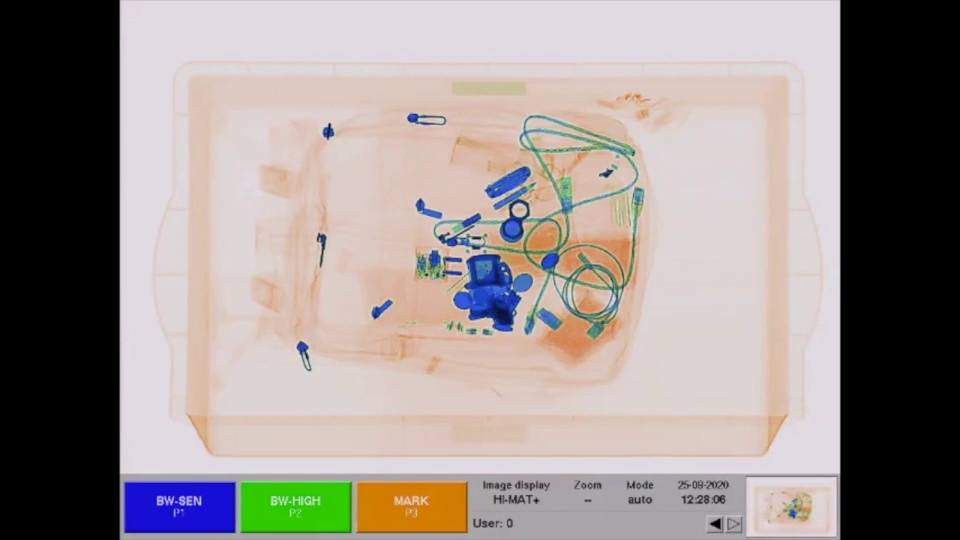tray_img: (147, 47, 827, 463)
